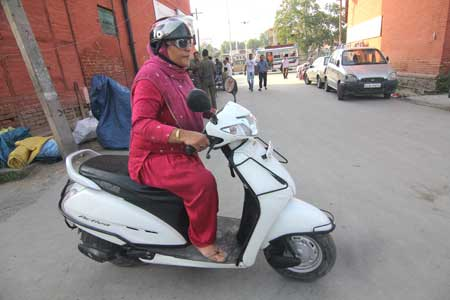with_helmet: (149, 18, 197, 41)
